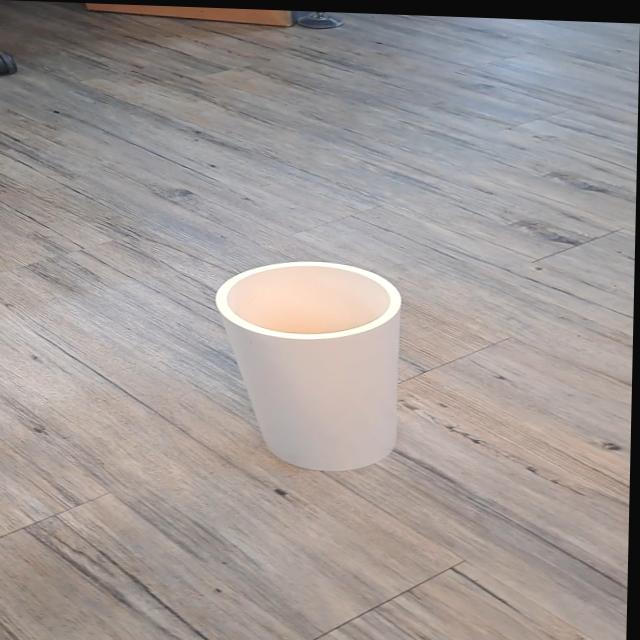CORAL: (186, 239, 465, 506)
